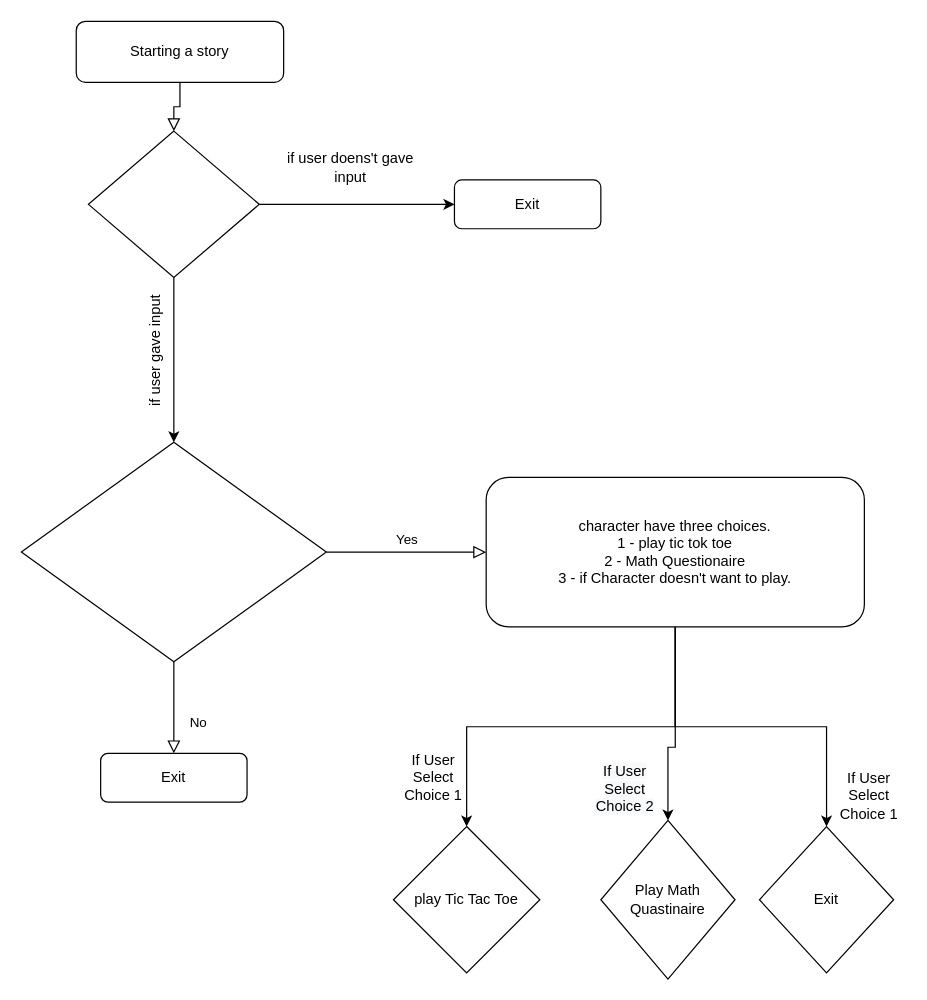
This 927x1000 diagram has some shape labels left out. The shapes that lost their labels are listed below. From the top down, each one's centre as x and y in pixels, then its label:
[173,204]: takes input as two character names
[173,551]: Ask to play Rock Paper scissor for further gameplay
